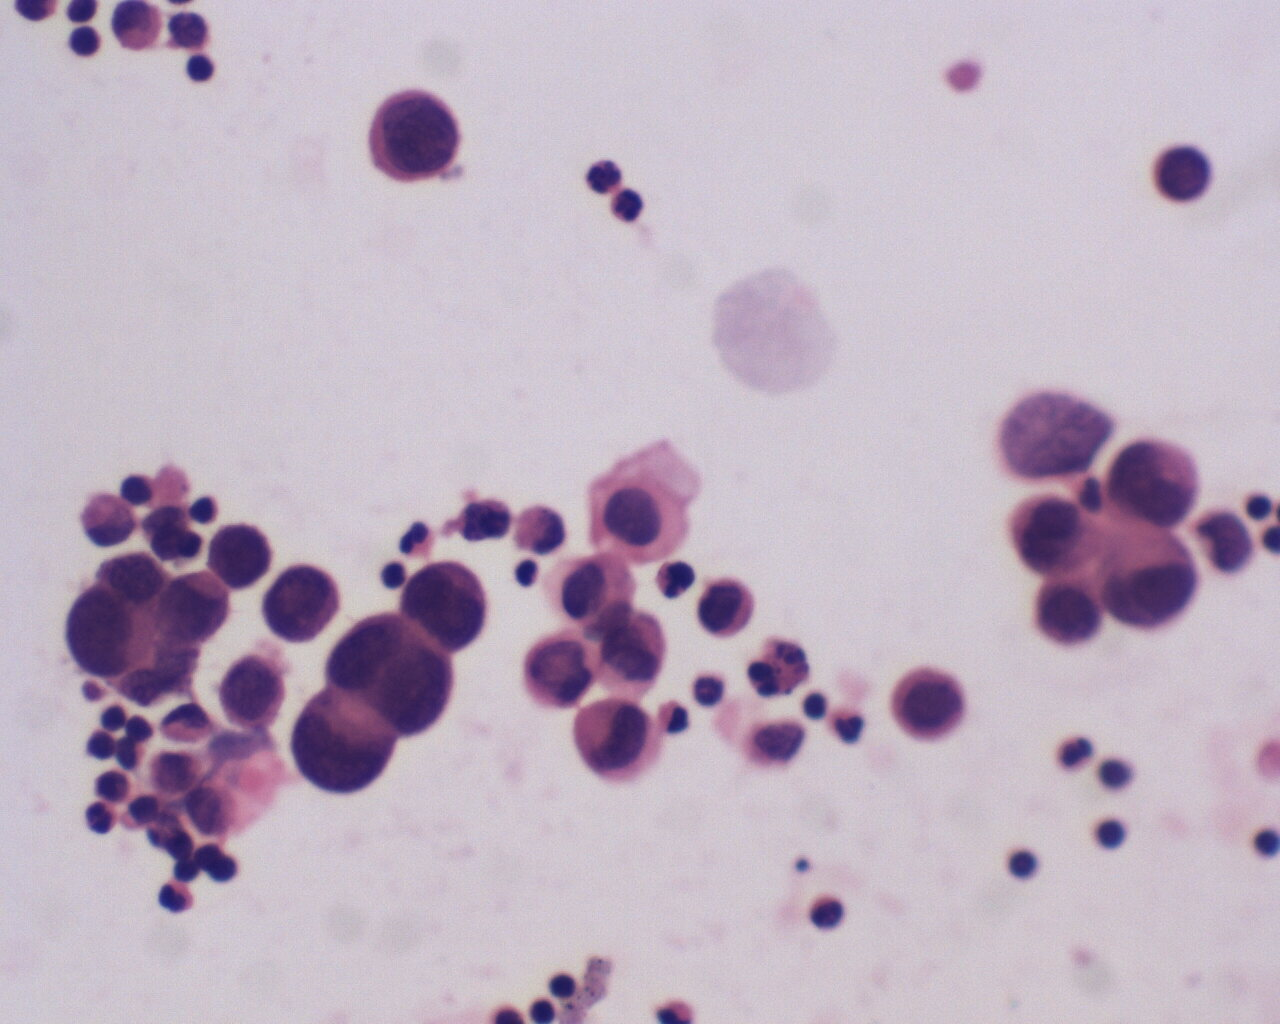ab: (287, 685, 397, 796), (1101, 525, 1205, 630), (364, 86, 464, 187), (1106, 430, 1198, 533), (999, 490, 1104, 578), (59, 580, 154, 677), (396, 557, 489, 656), (569, 696, 657, 787), (1019, 567, 1109, 652), (888, 664, 974, 747), (518, 627, 601, 709), (260, 557, 338, 645), (153, 567, 234, 650), (589, 609, 670, 691), (217, 656, 294, 734), (203, 519, 277, 594), (696, 577, 759, 636)
lymph: (61, 23, 108, 63), (1006, 843, 1042, 885), (183, 52, 220, 85)
neutro: (583, 158, 624, 196)
